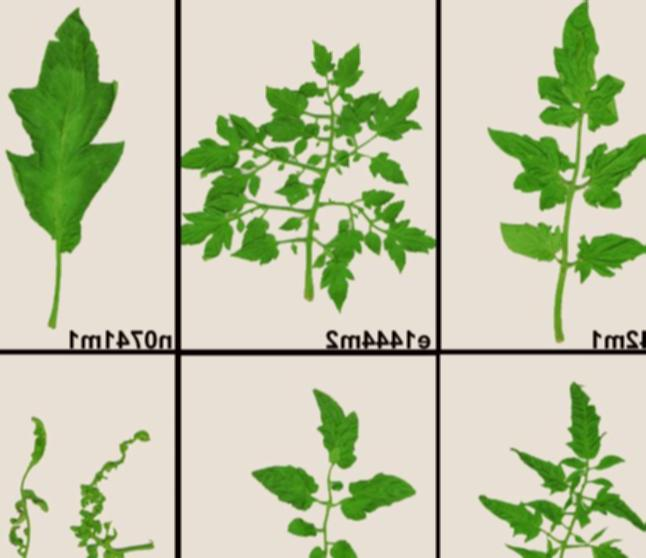Tomato leaf: (0, 9, 148, 257), (542, 3, 625, 134), (489, 119, 576, 200), (585, 126, 646, 212), (485, 222, 579, 274), (556, 371, 611, 459), (319, 372, 362, 477), (243, 463, 332, 512)
